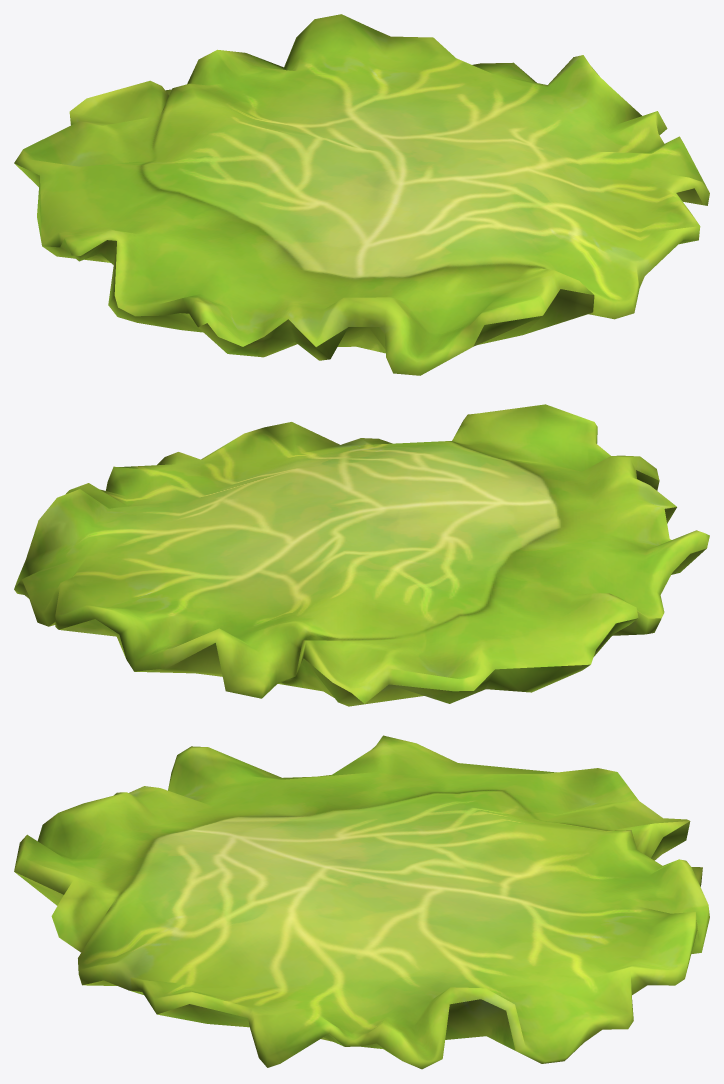
File: SM_LettuceLeaf.glb
3 views of the same model, one above another, from view 1: azimuth 30°, elevation 25°; view 2: azimuth 150°, elevation 25°; view 3: azimuth 270°, elevation 25° (orthographic). The views are drawn at different scales.
Parts seen in each view (by area): view 1: SM_LettuceLeaf; view 2: SM_LettuceLeaf; view 3: SM_LettuceLeaf.
Boxes of the visible parts, left/top/right/bottom form: SM_LettuceLeaf: left=14, top=14, right=709, bottom=375; SM_LettuceLeaf: left=14, top=404, right=709, bottom=706; SM_LettuceLeaf: left=14, top=735, right=709, bottom=1069.
Size of the model in its own units: 0.2017 by 0.0239 by 0.2023.
Materials: 1 (1 with a texture image).
